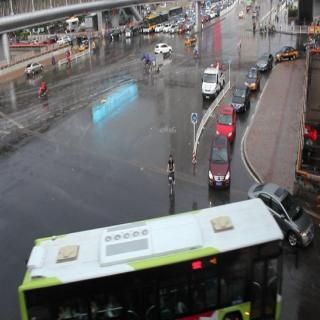BigCar: (18, 201, 271, 320)
Car: (249, 178, 314, 252), (209, 135, 230, 192), (201, 64, 225, 102), (216, 101, 236, 140), (230, 82, 249, 116), (277, 41, 301, 64), (244, 63, 259, 95), (259, 49, 274, 80), (153, 38, 173, 56), (25, 62, 44, 78), (143, 15, 154, 35), (110, 26, 122, 42), (185, 33, 198, 46), (155, 21, 164, 34), (170, 22, 177, 35), (126, 26, 132, 40), (178, 24, 187, 33), (163, 23, 169, 33), (79, 41, 85, 50)
